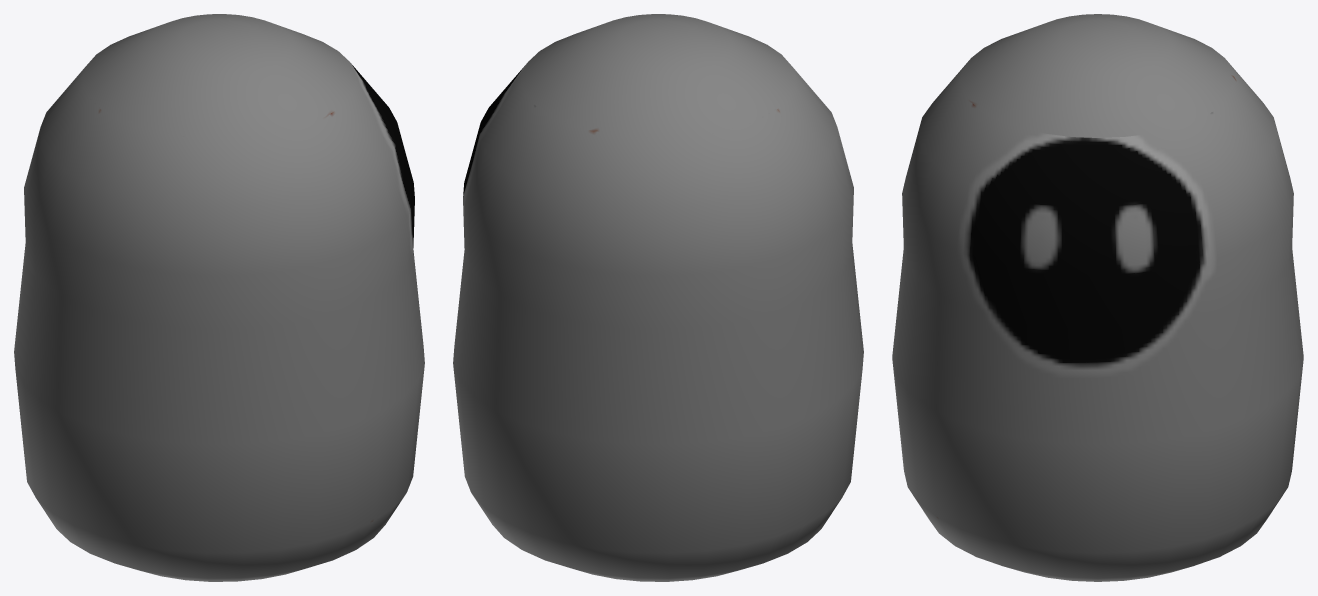
The model's file is Npc.fbx.
3 renders of one model, left to right at view 1: azimuth 30°, elevation 25°; view 2: azimuth 150°, elevation 25°; view 3: azimuth 270°, elevation 25°, orthographic.
Parts seen in each view (by area): view 1: Npc; view 2: Npc; view 3: Npc.
Part boxes in pixels (bbox=[...]): Npc: bbox=[14, 14, 424, 581]; Npc: bbox=[453, 14, 863, 581]; Npc: bbox=[892, 14, 1303, 581].
Bounding box in the file's own units: 172 × 228 × 172.
